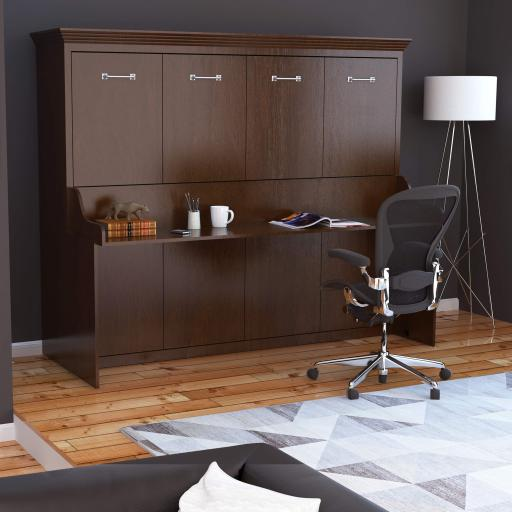chair: (307, 184, 461, 400)
desk: (30, 28, 414, 390)
sofa: (0, 442, 390, 512)
wall: (0, 0, 469, 343), (459, 0, 512, 322)
